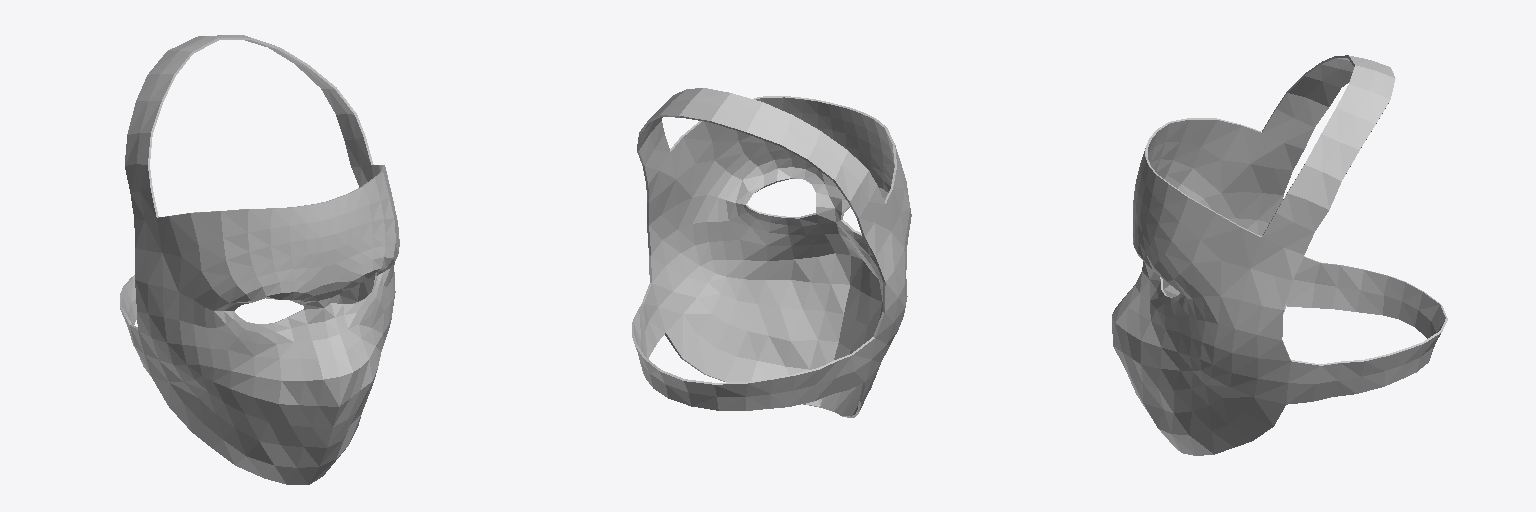
The model's file is Mask_death_obj.obj.
3 views of the same model, side by side, from view 1: azimuth 30°, elevation 25°; view 2: azimuth 150°, elevation 25°; view 3: azimuth 270°, elevation 25° (orthographic).
Parts seen in each view (by area): view 1: Mask_E; view 2: Mask_E; view 3: Mask_E.
Boxes of the visible parts, box(x1,y1,x2,y2) form: Mask_E: box(120, 35, 399, 484); Mask_E: box(632, 88, 911, 417); Mask_E: box(1112, 55, 1447, 455).
Bounding box in the file's own units: 37.43 × 57.13 × 45.68.